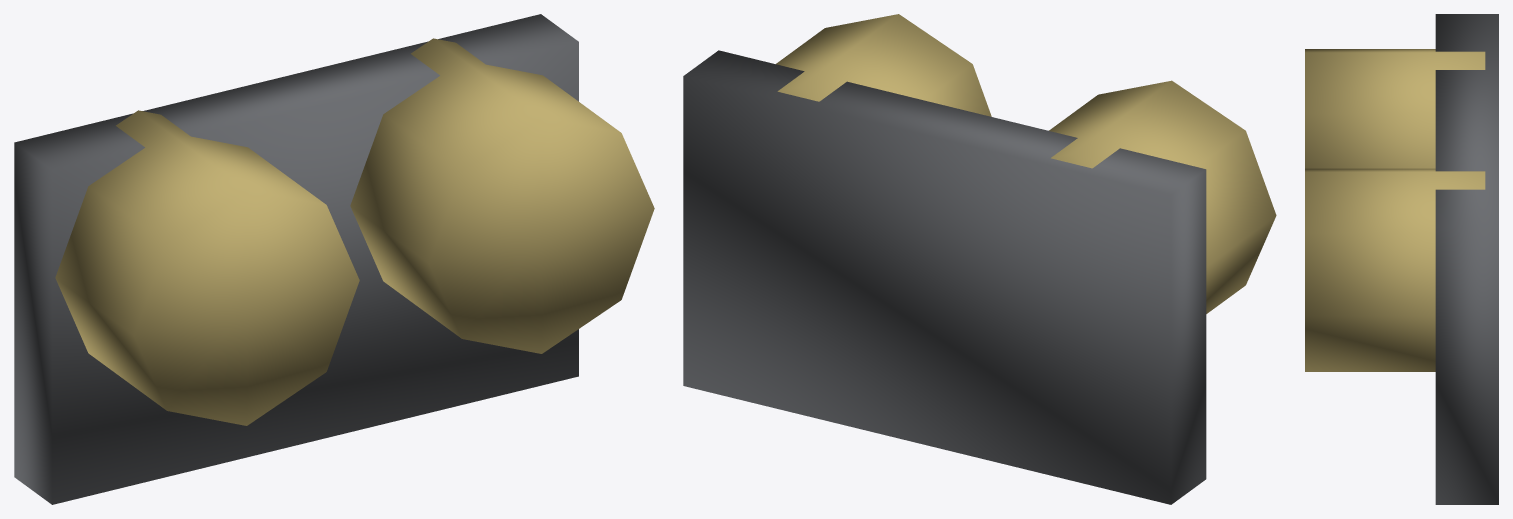
The model's file is emergency_light_pair_05.glb.
3 renders of one model, left to right at view 1: azimuth 30°, elevation 25°; view 2: azimuth 150°, elevation 25°; view 3: azimuth 270°, elevation 25°, orthographic. The views are drawn at different scales.
Parts seen in each view (by area): view 1: world; view 2: world; view 3: world.
Part boxes in pixels (x1,y1,x2,y2): world: (14, 14, 654, 504); world: (683, 14, 1276, 504); world: (1305, 14, 1498, 504).
Size of the model in its own units: 0.28 by 0.175 by 0.1075.
